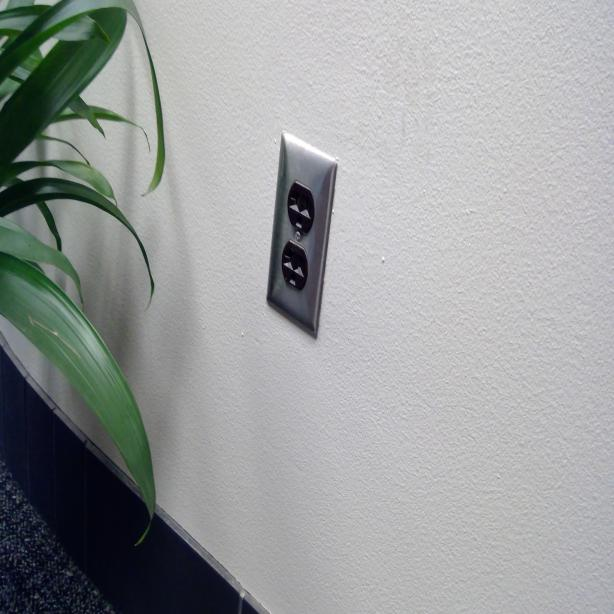typeb: (278, 242, 308, 292), (286, 181, 314, 232)
